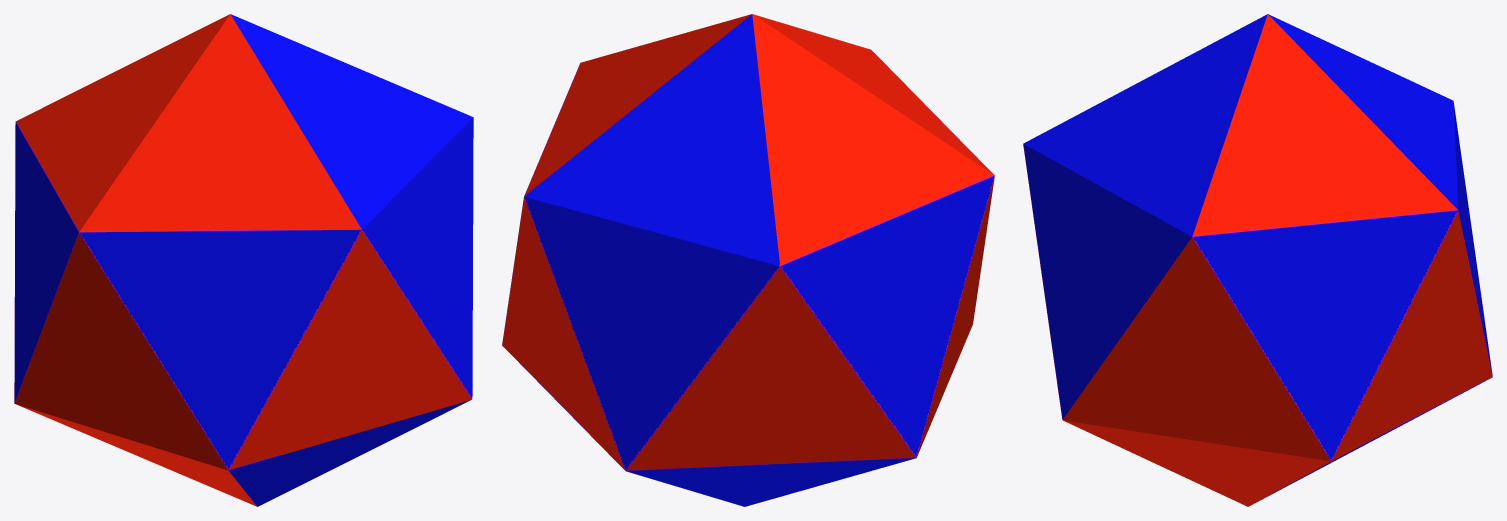
The model's file is Icosahedron.fbx.
3 views of the same model, side by side, from view 1: azimuth 30°, elevation 25°; view 2: azimuth 150°, elevation 25°; view 3: azimuth 270°, elevation 25° (orthographic). The views are drawn at different scales.
Parts seen in each view (by area): view 1: IcosahedronFull; view 2: IcosahedronFull; view 3: IcosahedronFull.
Part boxes in pixels (x1,y1,x2,y2): IcosahedronFull: [14, 14, 473, 506]; IcosahedronFull: [502, 14, 994, 506]; IcosahedronFull: [1023, 14, 1492, 506].
Bounding box in the file's own units: 1.01 × 1.17 × 1.03.
